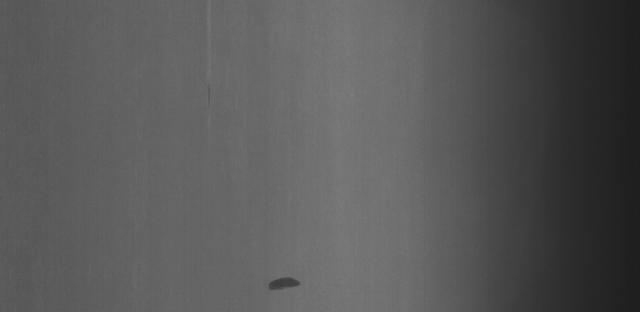oil_spot: (262, 260, 306, 298)
